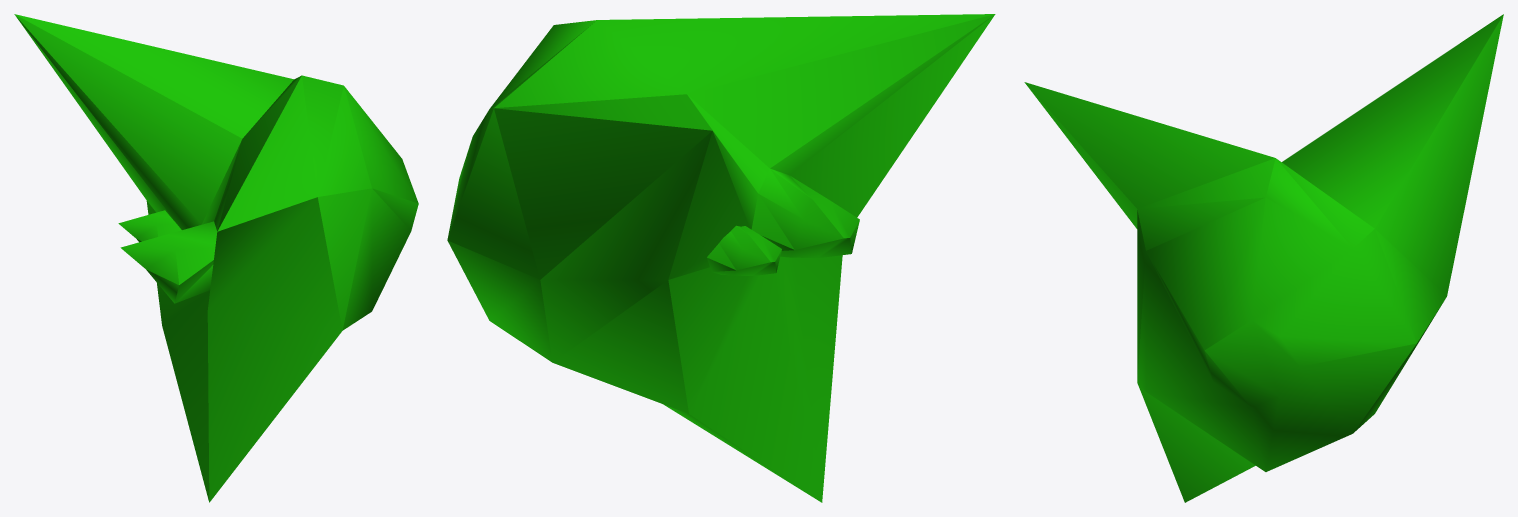
Rendered from goreRightHand.fbx.
3 renders of one model, left to right at view 1: azimuth 30°, elevation 25°; view 2: azimuth 150°, elevation 25°; view 3: azimuth 270°, elevation 25°, orthographic. The views are drawn at different scales.
Parts seen in each view (by area): view 1: goreRightHand; view 2: goreRightHand; view 3: goreRightHand.
Boxes of the visible parts, x1,y1,x2,y2 form: goreRightHand: [14, 14, 418, 502]; goreRightHand: [447, 14, 995, 502]; goreRightHand: [1024, 14, 1503, 502].
Size of the model in its own units: 14.66 by 19.37 by 18.39.
1 material, 1 textured.
